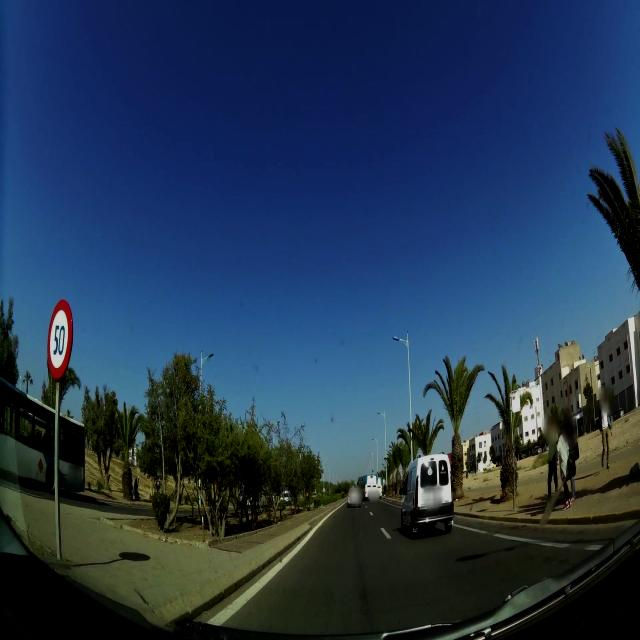car: (400, 452, 453, 538), (346, 483, 361, 509)
